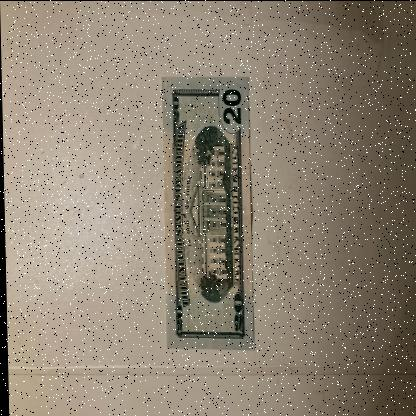twenty-back: (160, 76, 253, 350)
